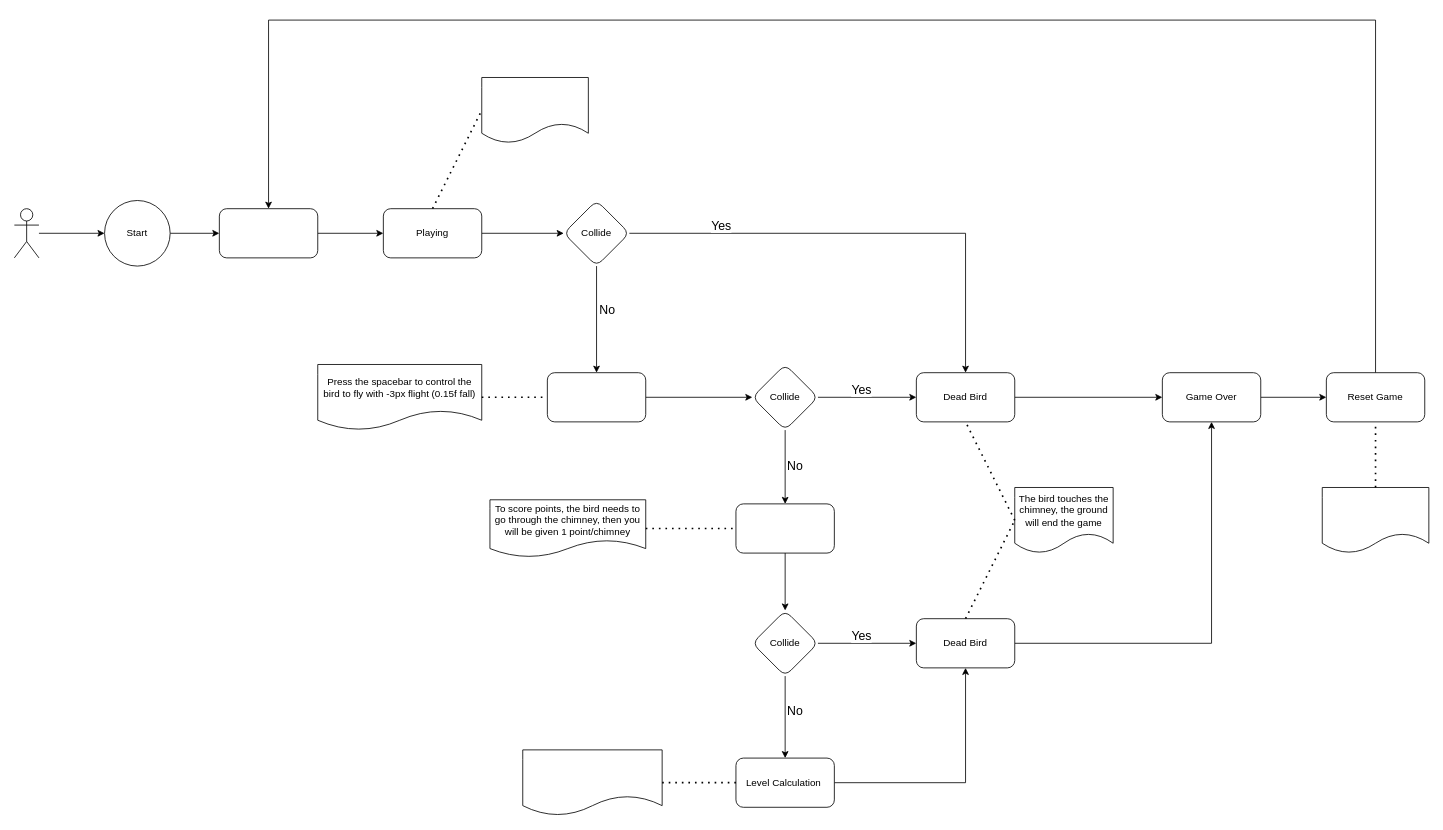
The diagram is 1443 pixels wide and 830 high, and some of its shapes have lost their labels. The shapes that lost their labels are listed below. From the top down, each one's centre as x and y in pixels, then its label:
At point 534,110: "Press space or any key to start the game".
At point 26,233: "Actor".
At point 268,233: "Display".
At point 596,397: "Move".
At point 784,528: "Point".
At point 1375,520: "Press the spacebar or any key to start again".
At point 592,782: "Reaching a certain point will increase the speed by 0.4 px".
